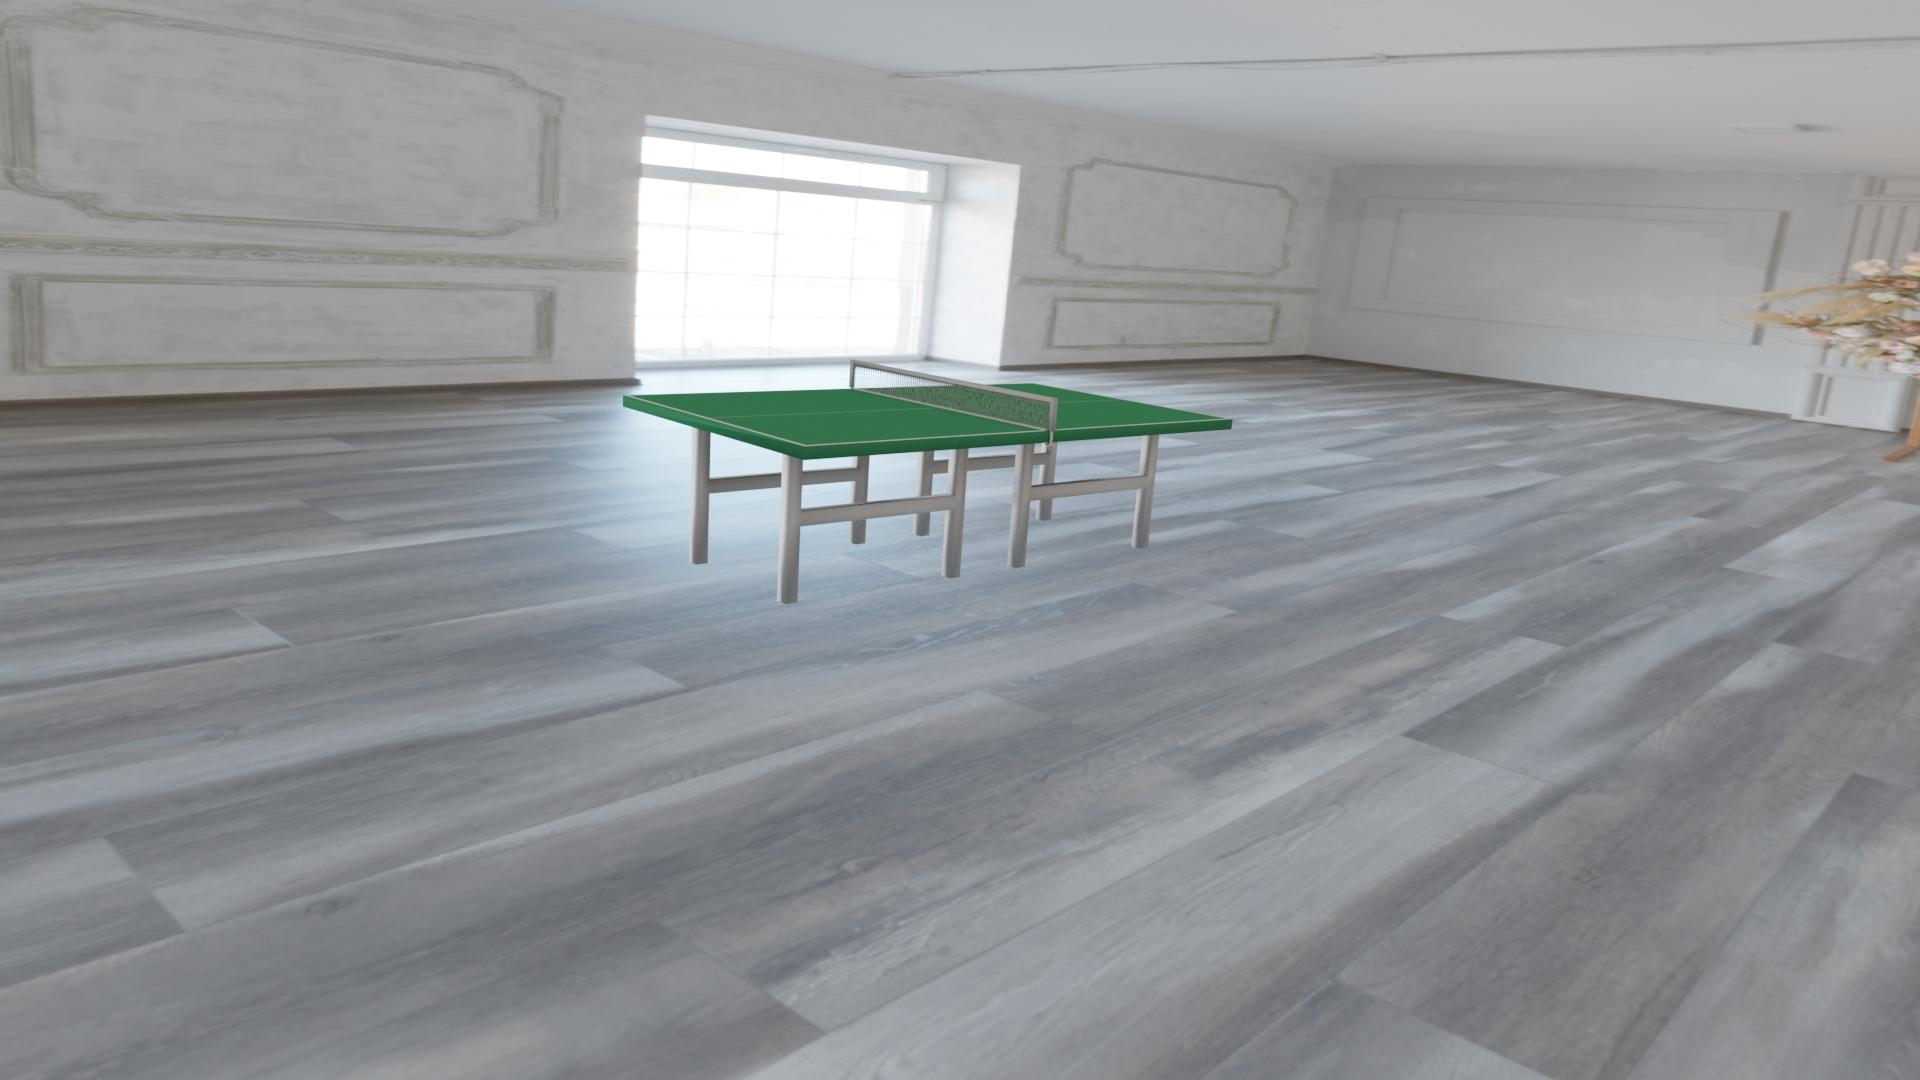table: (629, 384, 1228, 446)
